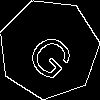G: (23, 23, 84, 84)
